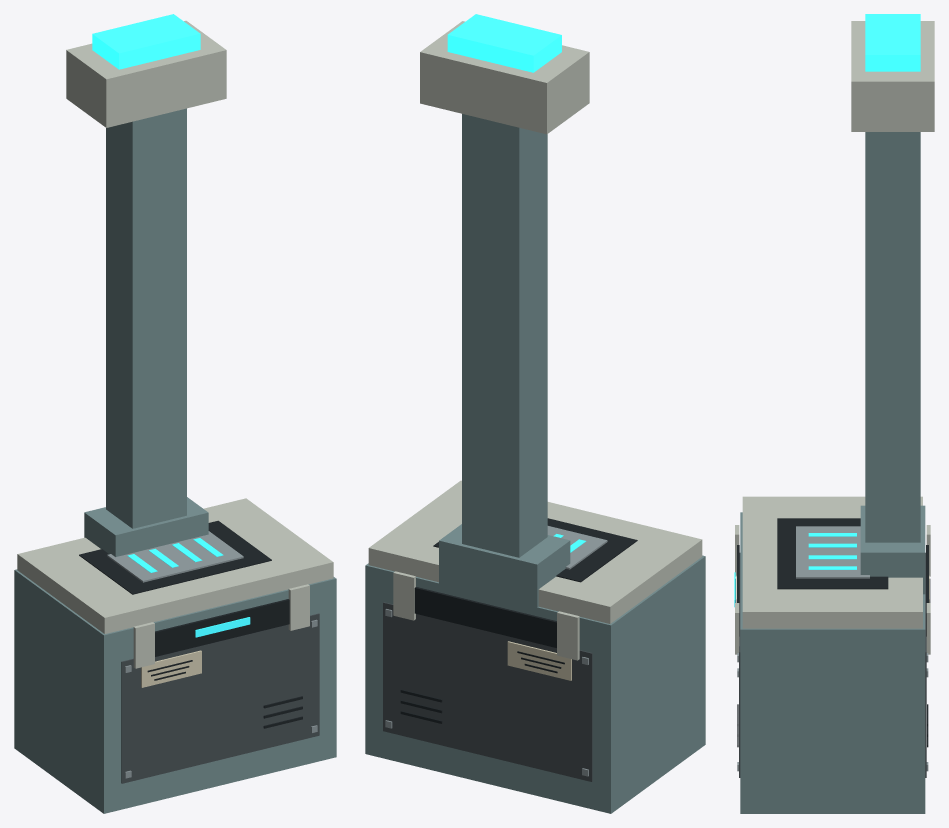
Rendered from memory-receiver.glb.
3 renders of one model, left to right at view 1: azimuth 30°, elevation 25°; view 2: azimuth 150°, elevation 25°; view 3: azimuth 270°, elevation 25°, orthographic. The views are drawn at different scales.
Parts seen in each view (by area): view 1: Mast, Cabinet, Inset service panel, Top docking rim, Beacon housing, Beacon, Mast foot, Hand recess, Cassette socket, MemoryCassette, Index card, Grasp rail (+1 smaller); view 2: Mast, Cabinet, Inset service panel.001, Top docking rim, Beacon housing, Mast foot, Beacon, Hand recess.001, Cassette socket, Index card.001, Grasp rail.002, Grasp rail.003 (+1 smaller); view 3: Cabinet, Mast, Top docking rim, Beacon housing, Beacon, Cassette socket, MemoryCassette, Mast foot, Inset service panel.
Part boxes in pixels (x1,y1,x2,y2): Mast: (106, 108, 186, 528); Cabinet: (14, 569, 336, 813); Inset service panel: (121, 613, 319, 783); Top docking rim: (17, 498, 333, 633); Beacon housing: (66, 20, 226, 127); Beacon: (92, 14, 200, 69); Mast foot: (84, 497, 208, 556); Hand recess: (155, 599, 289, 656); Cassette socket: (79, 520, 271, 594); MemoryCassette: (107, 531, 243, 582); Index card: (141, 650, 201, 687); Grasp rail: (133, 622, 154, 668); Mast: (462, 114, 547, 557); Cabinet: (365, 555, 705, 813); Inset service panel.001: (383, 602, 592, 781); Top docking rim: (368, 480, 702, 623); Beacon housing: (420, 21, 589, 134); Mast foot: (439, 524, 570, 607); Beacon: (447, 14, 561, 72); Hand recess.001: (414, 587, 556, 647); Cassette socket: (433, 518, 637, 582); Index card.001: (507, 641, 571, 680); Grasp rail.002: (557, 611, 579, 660); Grasp rail.003: (393, 571, 415, 620); Cabinet: (740, 512, 925, 813); Mast: (865, 132, 920, 542); Top docking rim: (742, 496, 922, 628); Beacon housing: (851, 21, 934, 131); Beacon: (865, 14, 920, 71); Cassette socket: (777, 518, 888, 589); MemoryCassette: (796, 526, 869, 578); Mast foot: (860, 505, 925, 594); Inset service panel: (739, 553, 740, 777).
Bounding box in the file's own units: 1.2 × 3.44 × 0.866.
